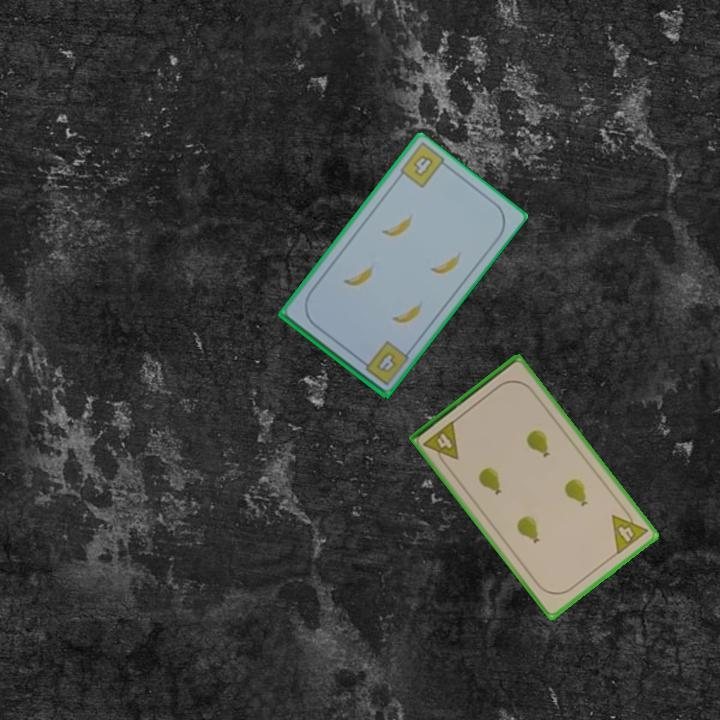4b: (356, 337, 410, 388), (409, 151, 436, 179)
4p: (608, 503, 651, 558), (420, 417, 462, 470)
